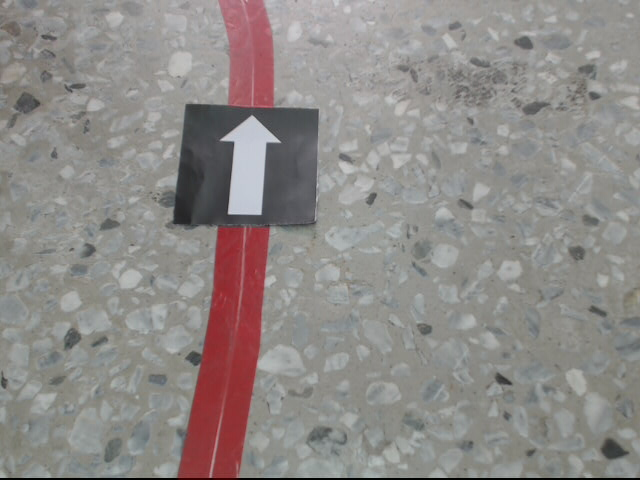straight: (175, 104, 323, 226)
